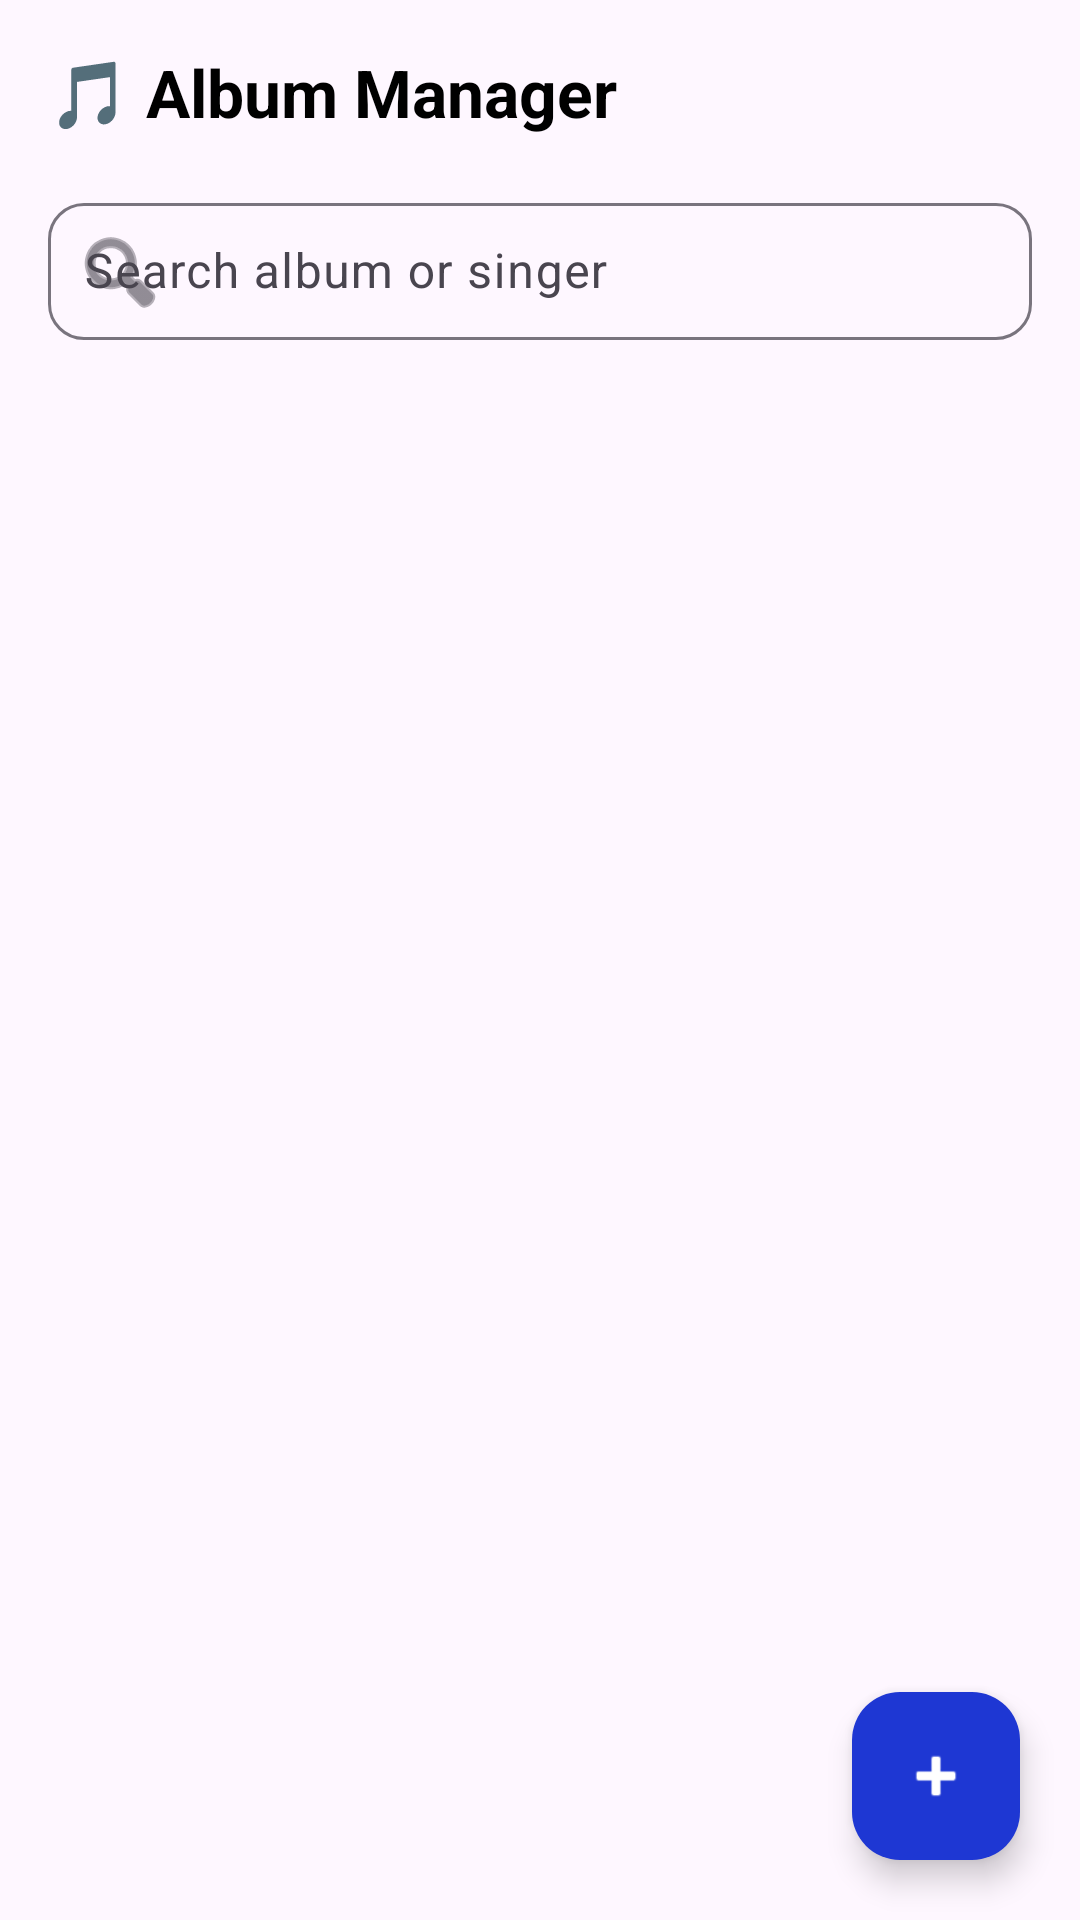

Where to tap for icons on this 1080w x 1920h app screen, as (x,y):
Add Album: (936,1776)
